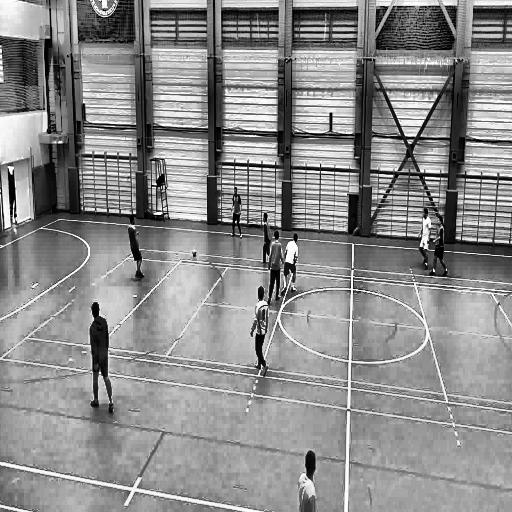ball: (190, 246, 199, 259)
player: (88, 299, 115, 416), (248, 286, 270, 376), (296, 445, 323, 512), (127, 210, 145, 283), (280, 231, 300, 296), (429, 213, 448, 279), (267, 230, 284, 303), (418, 206, 432, 275), (228, 184, 244, 240), (260, 213, 272, 265)
